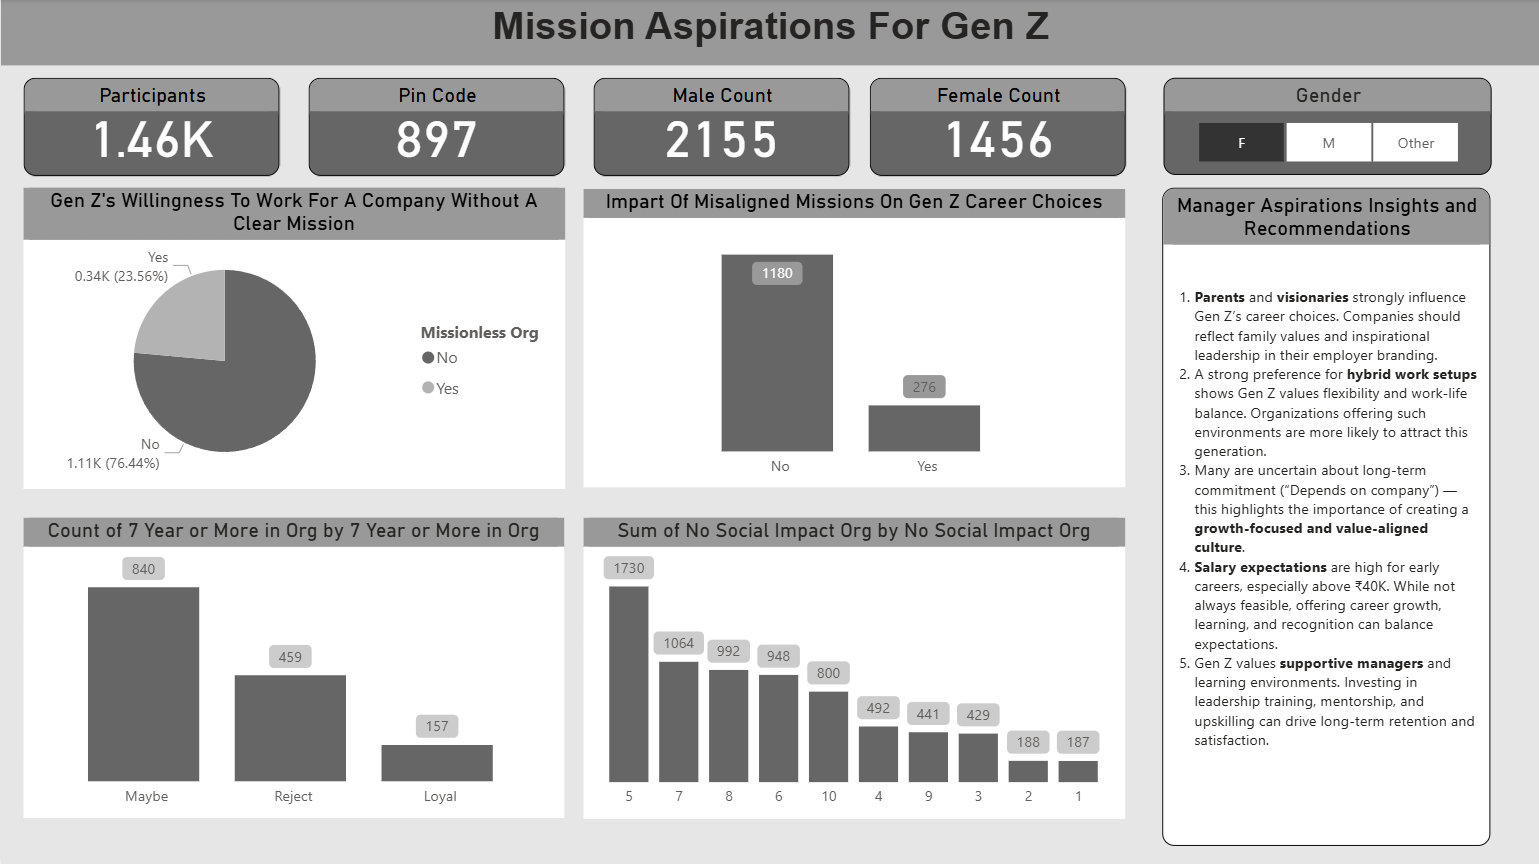

What the dashboard file says about the page in this screenshot:
{"tool":"powerbi","page":{"name":"Page 2","canvas":[1280,720],"ordinal":1},"visuals":[{"type":"card","title":"Participants","fields":{"Values":["Data.TotalParticipants"]},"box":[19,65.2,213.2,81.5],"z":0},{"type":"card","title":"Pin Code","fields":{"Values":["Count(Data.Pin Code)"]},"box":[255.2,65.2,213.2,81.5],"z":1000},{"type":"card","title":"Male Count","fields":{"Values":["Data.MaleCount"]},"box":[492.8,65.2,213.2,81.5],"z":2000},{"type":"card","title":"Female Count","fields":{"Values":["Data.FemaleCount"]},"box":[722.3,65.2,213.2,81.5],"z":3000},{"type":"slicer","title":"Gender","fields":{"Values":["Data.Gender"]},"box":[966,65,273,81],"z":4000},{"type":"textbox","title":"Manager Aspirations Insights and Recommendations","box":[965.7,157.1,272.9,547.1],"z":5000},{"type":"pieChart","title":"Gen Z''s Willingness To Work For A Company Without A Clear Mission","fields":{"Category":["Data.Missionless Org"],"Y":["CountNonNull(Data.Missionless Org)"]},"box":[19.2,156.4,450,250],"z":6000},{"type":"clusteredColumnChart","title":"Impart Of Misaligned Missions On Gen Z Career Choices","fields":{"Category":["Data.Misaligned Mission Org"],"Y":["CountNonNull(Data.Misaligned Mission Org)"]},"box":[484.4,157.8,450.1,248.4],"z":7000},{"type":"clusteredColumnChart","fields":{"Category":["Data.7 Year or More in Org"],"Y":["CountNonNull(Data.7 Year or More in Org)"]},"box":[18.3,431,449.3,249.3],"z":8000},{"type":"clusteredColumnChart","fields":{"Y":["Sum(Data.No Social Impact Org)"],"Category":["Data.No Social Impact Org"]},"box":[484,431,450,250],"z":9000},{"type":"textbox","box":[0,0,1280.3,54.9],"z":9001}]}

Visuals, with their boxes in screenshot pixels (x1, y1, x2, y2), scaled from the page's 1280x720 canvas onto the 1539x864 screenshot:
"Participants" card: [23, 78, 279, 176]
"Pin Code" card: [307, 78, 563, 176]
"Male Count" card: [593, 78, 849, 176]
"Female Count" card: [868, 78, 1125, 176]
"Gender" slicer: [1161, 78, 1490, 175]
"Manager Aspirations Insights and Recommendations" textbox: [1161, 189, 1489, 845]
"Gen Z''s Willingness To Work For A Company Without A Clear Mission" pieChart: [23, 188, 564, 488]
"Impart Of Misaligned Missions On Gen Z Career Choices" clusteredColumnChart: [582, 189, 1124, 487]
clusteredColumnChart - Data.7 Year or More in Org x CountNonNull(Data.7 Year or More in Org): [22, 517, 562, 816]
clusteredColumnChart - Sum(Data.No Social Impact Org) x Data.No Social Impact Org: [582, 517, 1123, 817]
textbox: [0, 0, 1538, 66]
